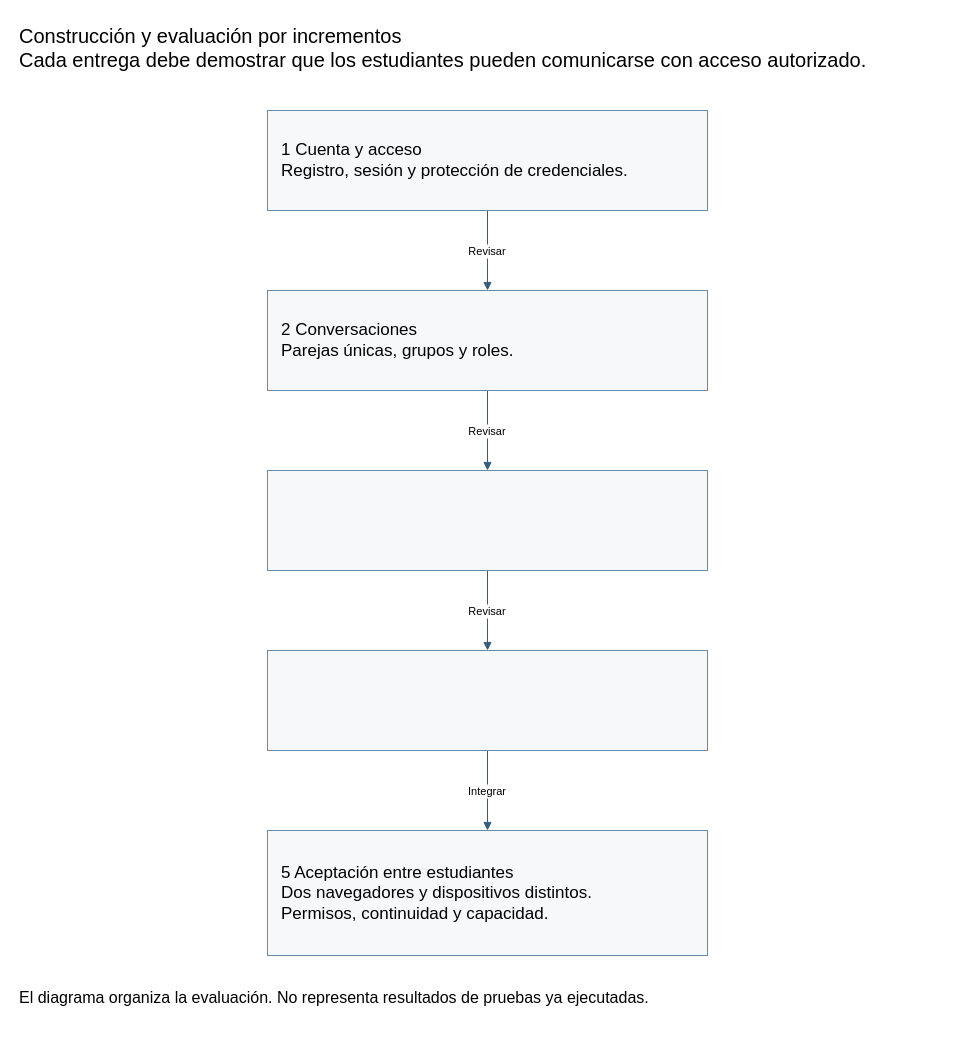
Some shapes in this 974 by 1058 pixel diagram are drawn without their labels. The shapes that lost their labels are listed below. From the top down, each one's centre as x and y in pixels, then its label:
At (x=487, y=520): "3 Intercambio e historial Mensajes, adjuntos, sincronización y lectura.".
At (x=487, y=700): "4 Gestión personal Perfil, preferencias y recuperación.".
